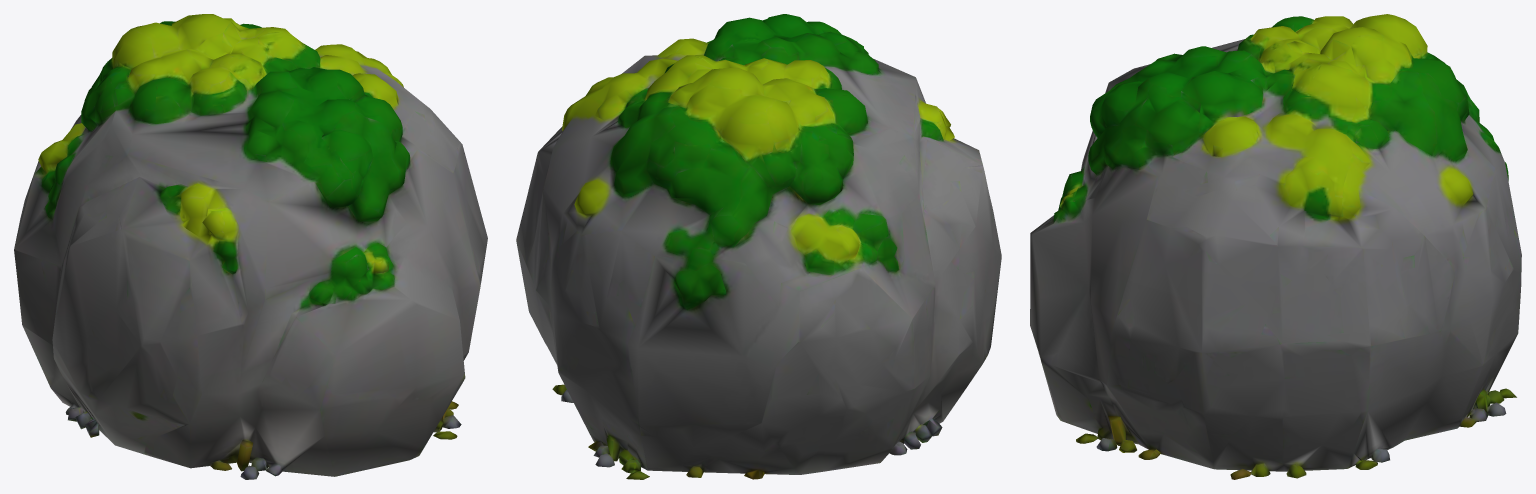
The model's file is boulder-large-a.glb.
3 renders of one model, left to right at view 1: azimuth 30°, elevation 25°; view 2: azimuth 150°, elevation 25°; view 3: azimuth 270°, elevation 25°, orthographic. The views are drawn at different scales.
Parts seen in each view (by area): view 1: node_0; view 2: node_0; view 3: node_0.
Boxes of the visible parts, x1=… form: node_0: x1=14, y1=14, x2=487, y2=479; node_0: x1=516, y1=14, x2=1001, y2=479; node_0: x1=1030, y1=14, x2=1521, y2=479.
Bounding box in the file's own units: 2.92 × 2.39 × 3.
1 material, 1 textured.
